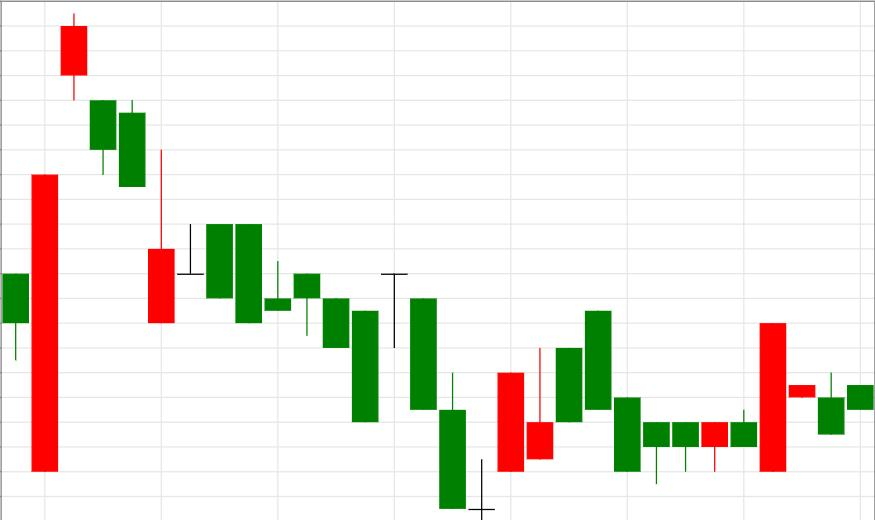morning_star_rise: (294, 273, 524, 519)
